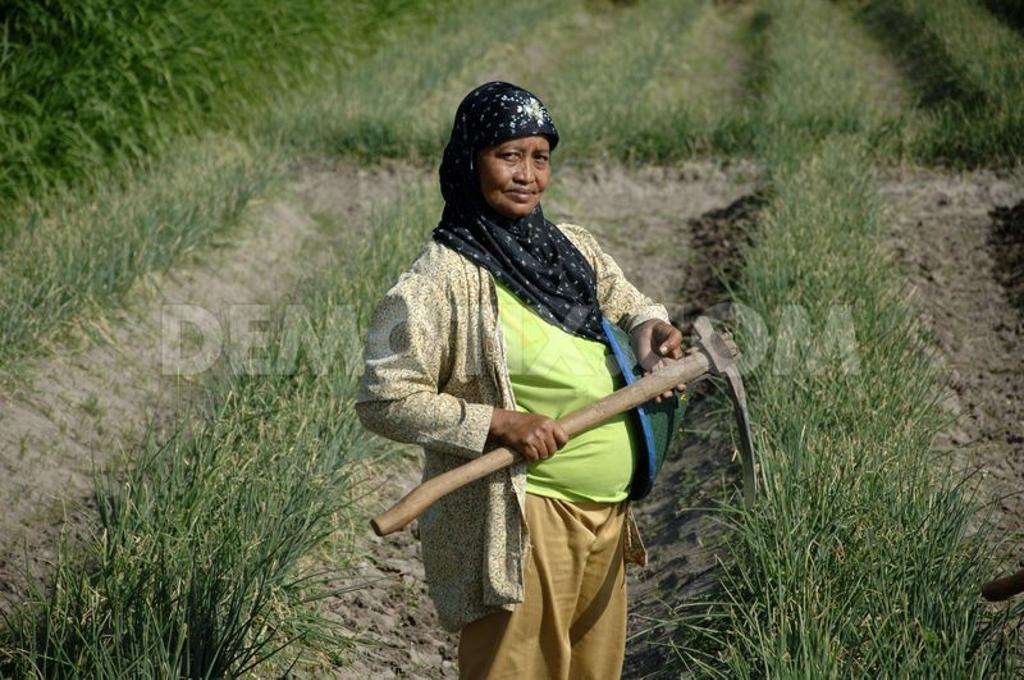face: (486, 110, 550, 210)
